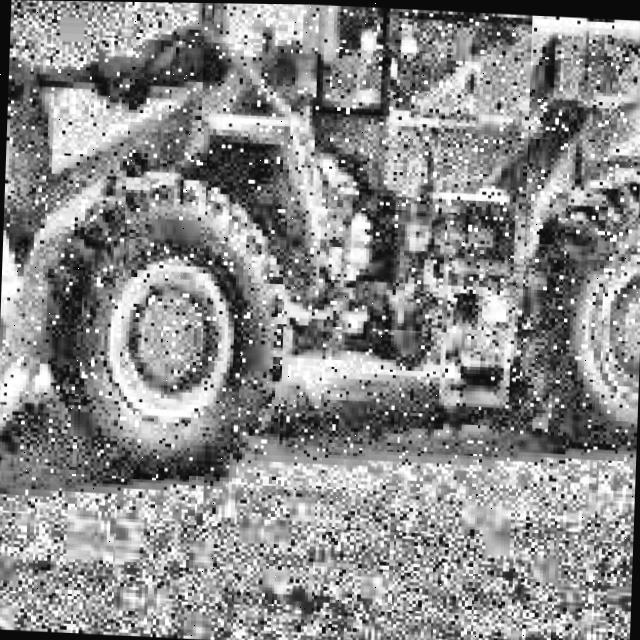buldozerpayloadergrader: (0, 0, 640, 572)
